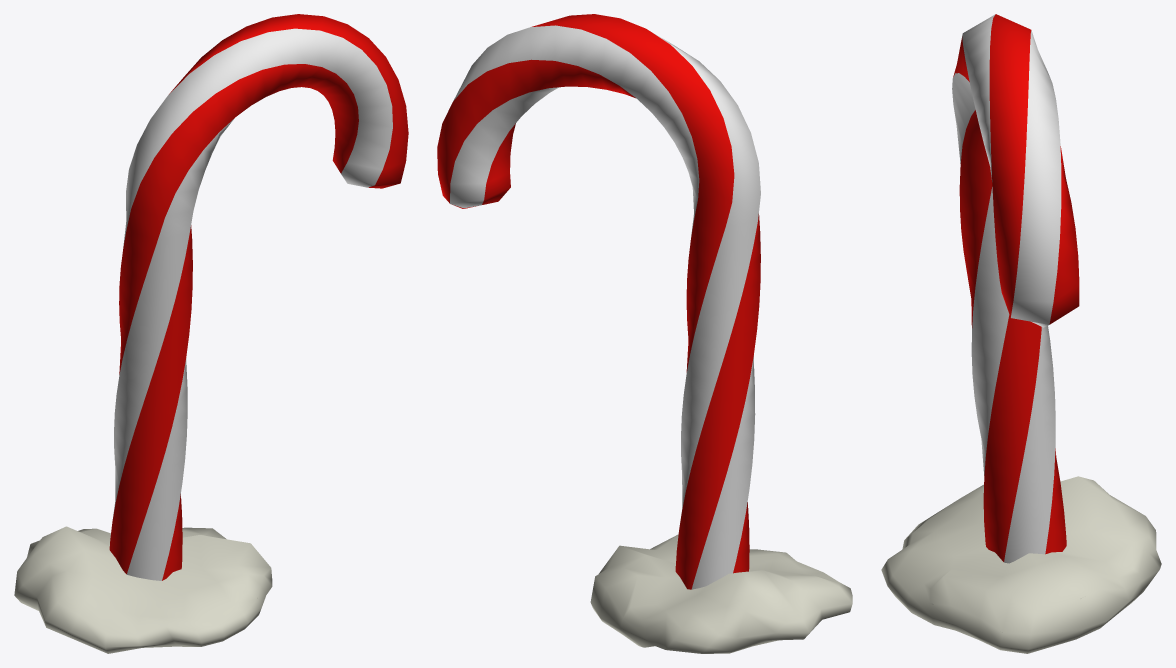
File: Candy_Cane.glb
3 renders of one model, left to right at view 1: azimuth 30°, elevation 25°; view 2: azimuth 150°, elevation 25°; view 3: azimuth 270°, elevation 25°, orthographic. The views are drawn at different scales.
Parts seen in each view (by area): view 1: snow_pad.004_Baked; view 2: snow_pad.004_Baked; view 3: snow_pad.004_Baked.
Boxes of the visible parts, x1,y1,x2,y2 form: snow_pad.004_Baked: [14, 14, 408, 653]; snow_pad.004_Baked: [437, 14, 852, 653]; snow_pad.004_Baked: [881, 14, 1161, 653].
Size of the model in its own units: 0.0284 by 0.0403 by 0.0163.
3 materials, 1 textured.
